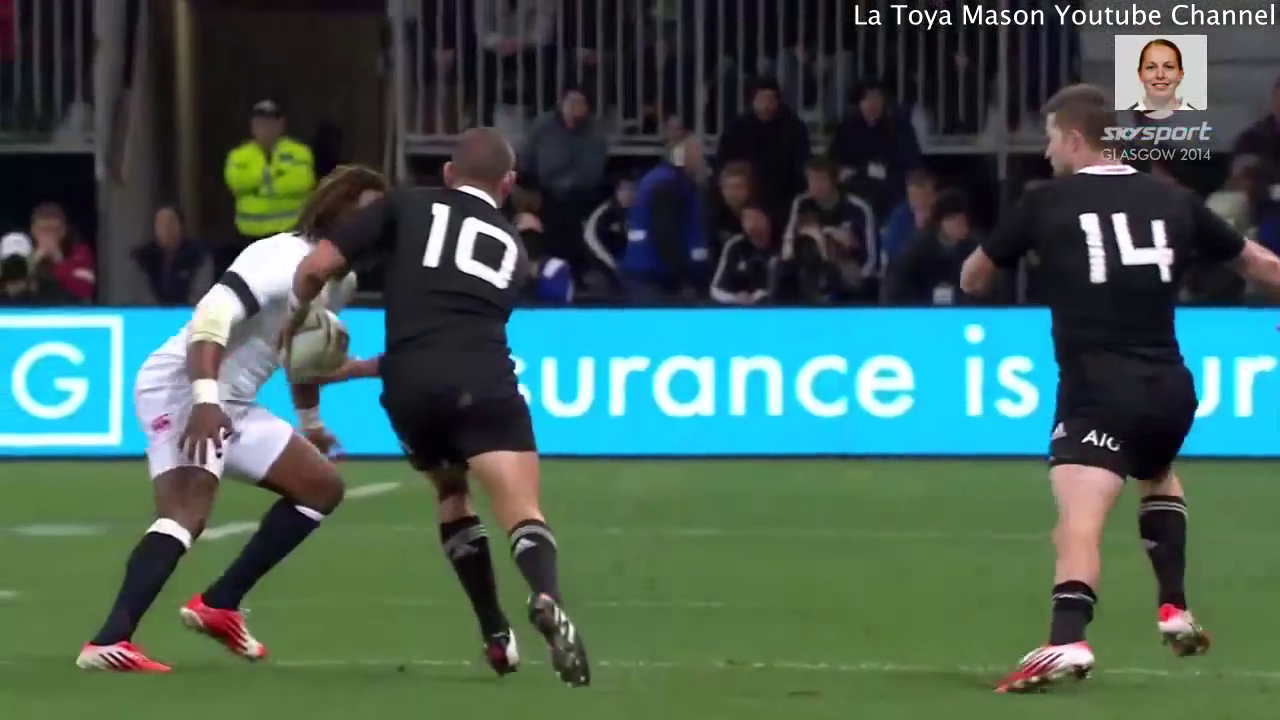ball: (269, 299, 365, 384)
player: (951, 83, 1280, 707), (69, 158, 396, 680), (330, 121, 593, 692)
